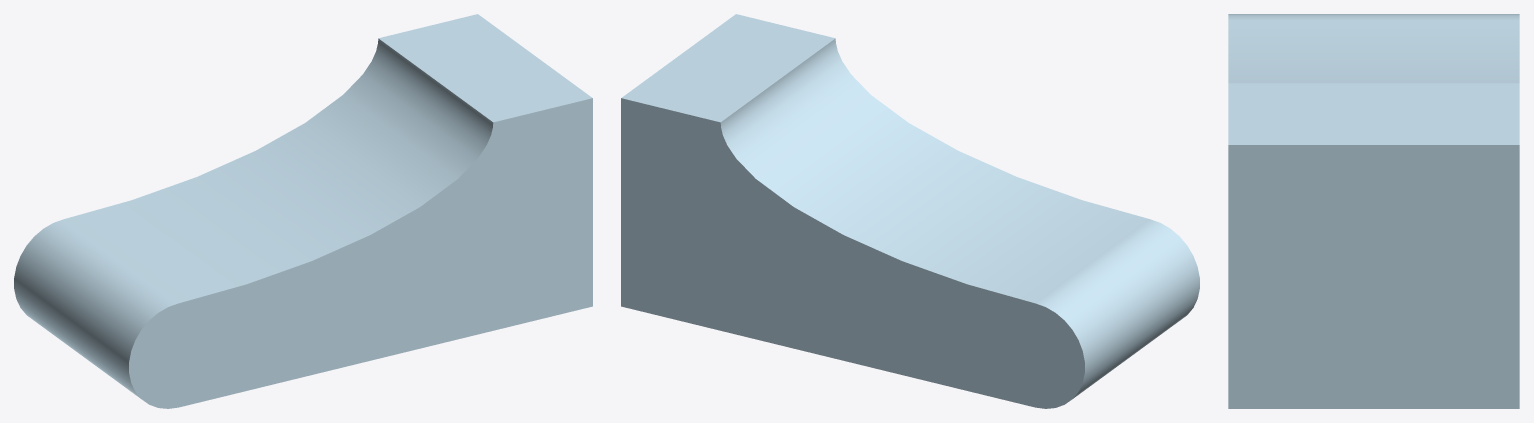
Rendered from Engrave0.gltf.
The picture shows the model from 3 angles, left to right: view 1: azimuth 30°, elevation 25°; view 2: azimuth 150°, elevation 25°; view 3: azimuth 270°, elevation 25°; orthographic projection. The views are drawn at different scales.
Visible parts, largest first — view 1: Part 1; view 2: Part 1; view 3: Part 1.
Part boxes in pixels (box(x1,y1,x2,y2)): Part 1: box(14, 14, 592, 408); Part 1: box(621, 14, 1199, 408); Part 1: box(1228, 14, 1519, 408).
Bounding box in the file's own units: 0.0592 × 0.0254 × 0.0254.
